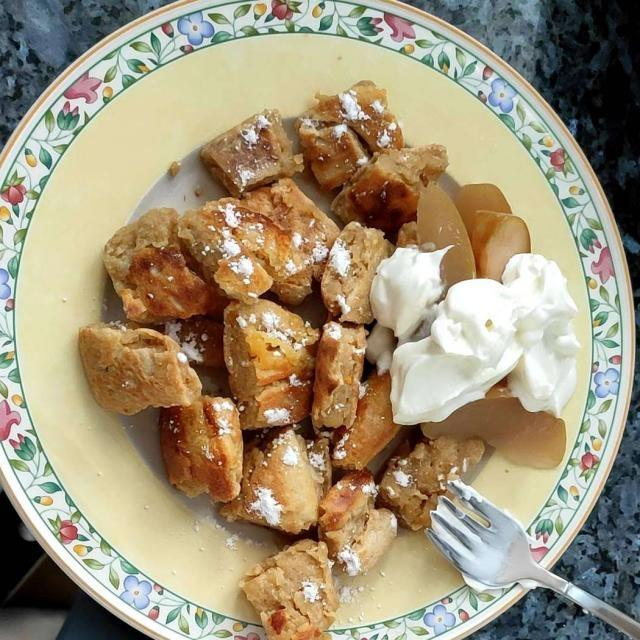cream: (364, 247, 582, 425)
crepe: (71, 79, 476, 631)
